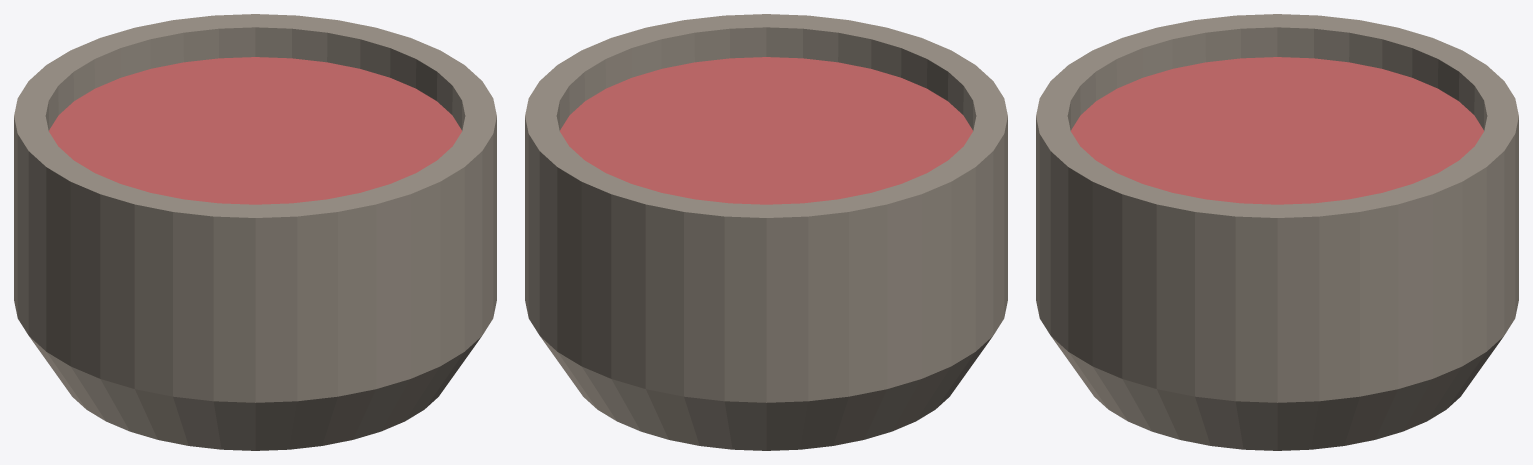
The model's file is Worker2.fbx.
The picture shows the model from 3 angles, left to right: view 1: azimuth 30°, elevation 25°; view 2: azimuth 150°, elevation 25°; view 3: azimuth 270°, elevation 25°; orthographic projection.
Parts seen in each view (by area): view 1: Worker; view 2: Worker; view 3: Worker.
Boxes of the visible parts, bbox=[...] form: Worker: bbox=[14, 14, 496, 450]; Worker: bbox=[525, 14, 1007, 450]; Worker: bbox=[1036, 14, 1518, 450].
Size of the model in its own units: 10.4 by 6 by 10.4.
